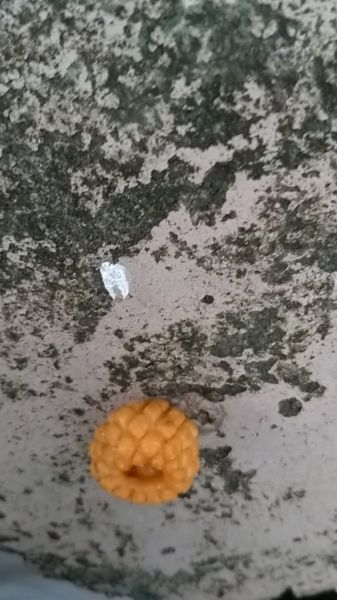eggs: (85, 389, 203, 507)
